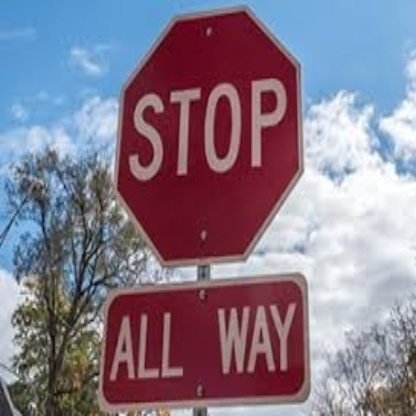stop: (115, 6, 303, 262)
